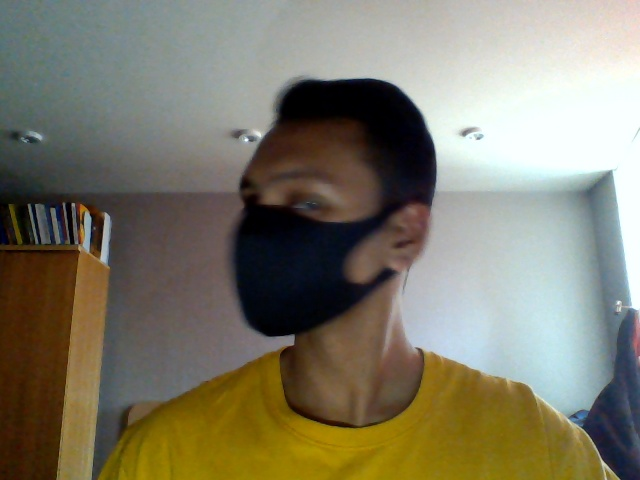mask: (227, 200, 363, 336)
